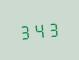four: (33, 20, 46, 39)
three: (18, 21, 31, 40), (47, 19, 60, 38)
